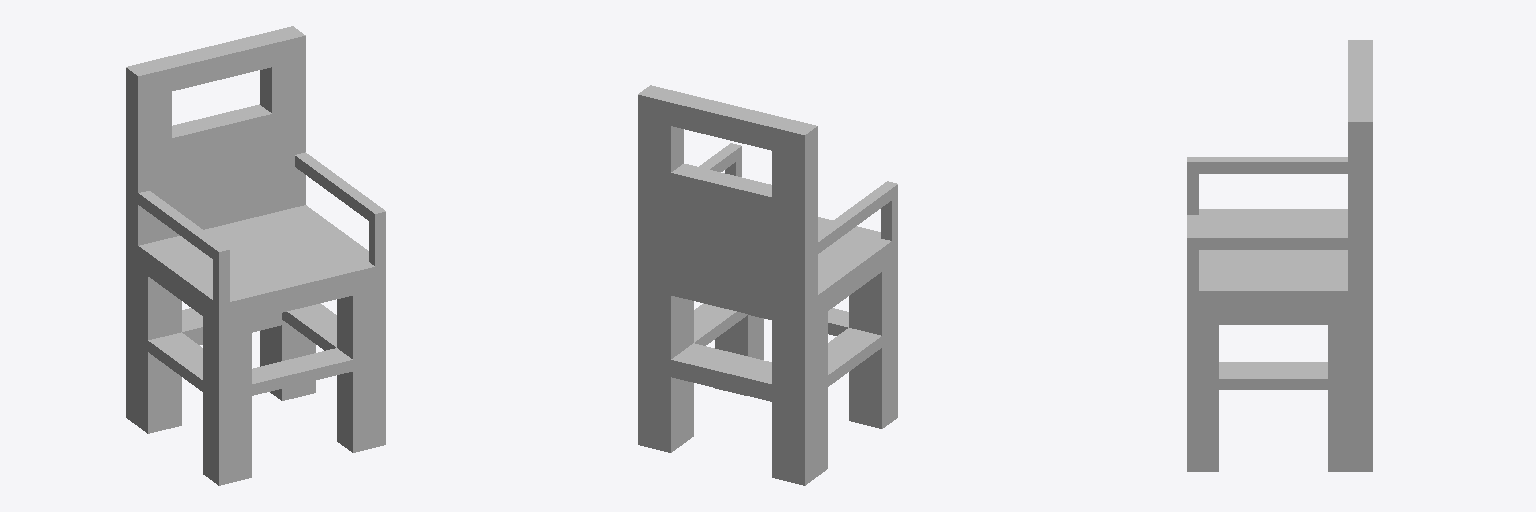
File: chair1.obj
3 renders of one model, left to right at view 1: azimuth 30°, elevation 25°; view 2: azimuth 150°, elevation 25°; view 3: azimuth 270°, elevation 25°, orthographic.
Parts seen in each view (by area): view 1: object 1; view 2: object 1; view 3: object 1.
Boxes of the visible parts, x1=… form: object 1: x1=126, y1=26, x2=385, y2=485; object 1: x1=638, y1=85, x2=897, y2=485; object 1: x1=1187, y1=40, x2=1372, y2=471.
Bounding box in the file's own units: 3 × 6 × 2.9.